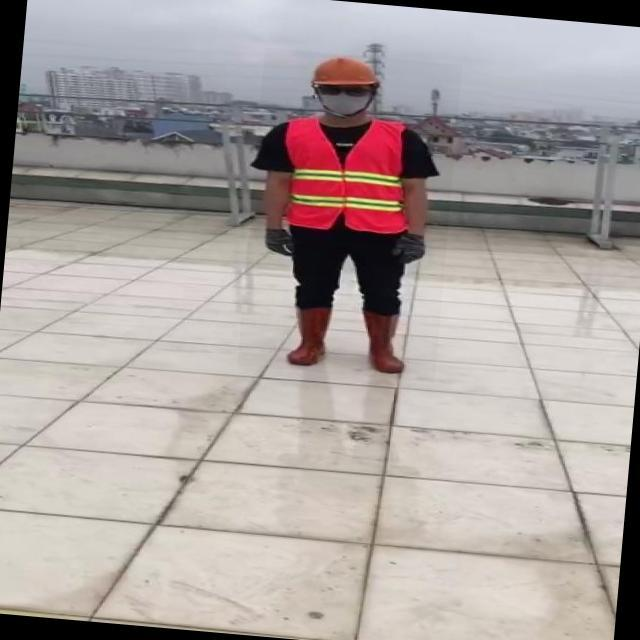Gloves: (393, 231, 428, 265), (262, 226, 300, 257)
Helmet: (305, 52, 383, 91)
Human: (237, 47, 462, 382)
Safety Boot: (358, 310, 411, 377), (286, 303, 332, 370)
Safety Vest: (277, 114, 418, 237)
